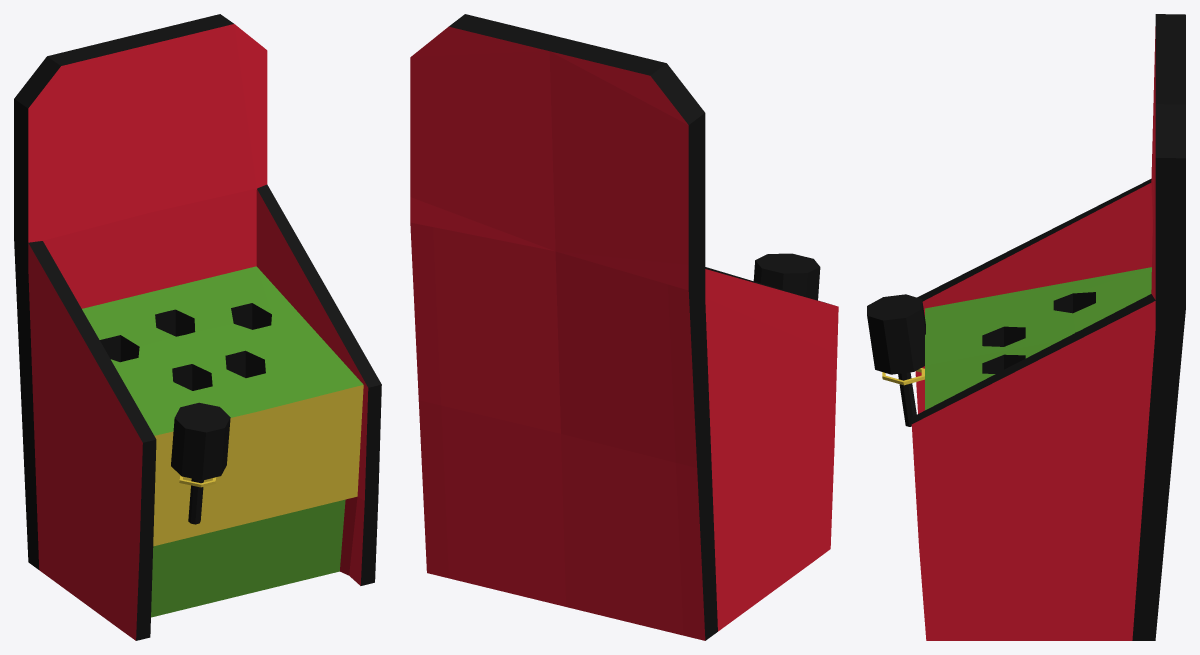
Rendered from WhackaMole.fbx.
The picture shows the model from 3 angles, left to right: view 1: azimuth 30°, elevation 25°; view 2: azimuth 150°, elevation 25°; view 3: azimuth 270°, elevation 25°; orthographic projection. The views are drawn at different scales.
Visible parts, largest first — view 1: Cube; view 2: Cube; view 3: Cube.
Part boxes in pixels (x1,y1,x2,y2): Cube: (14, 14, 381, 640); Cube: (410, 14, 838, 640); Cube: (867, 14, 1185, 640).
Bounding box in the file's own units: 294 × 575 × 319.
